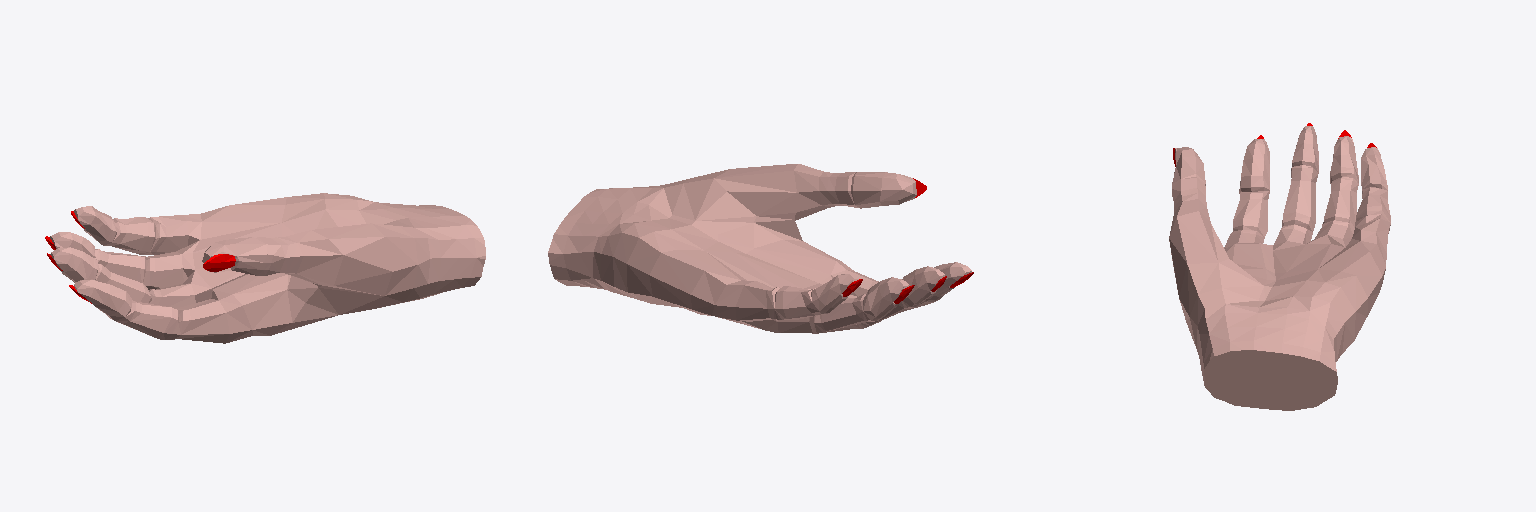
The model's file is hand_base.obj.
3 renders of one model, left to right at view 1: azimuth 30°, elevation 25°; view 2: azimuth 150°, elevation 25°; view 3: azimuth 270°, elevation 25°, orthographic.
Visible parts, largest first — view 1: Mesh1 lHand_1_1 Model; view 2: Mesh1 lHand_1_1 Model; view 3: Mesh1 lHand_1_1 Model.
Boxes of the visible parts, box(x1,y1,x2,y2) form: Mesh1 lHand_1_1 Model: box(45, 193, 485, 343); Mesh1 lHand_1_1 Model: box(548, 164, 973, 333); Mesh1 lHand_1_1 Model: box(1169, 123, 1390, 410).
Bounding box in the file's own units: 7.8 × 2.51 × 3.81.